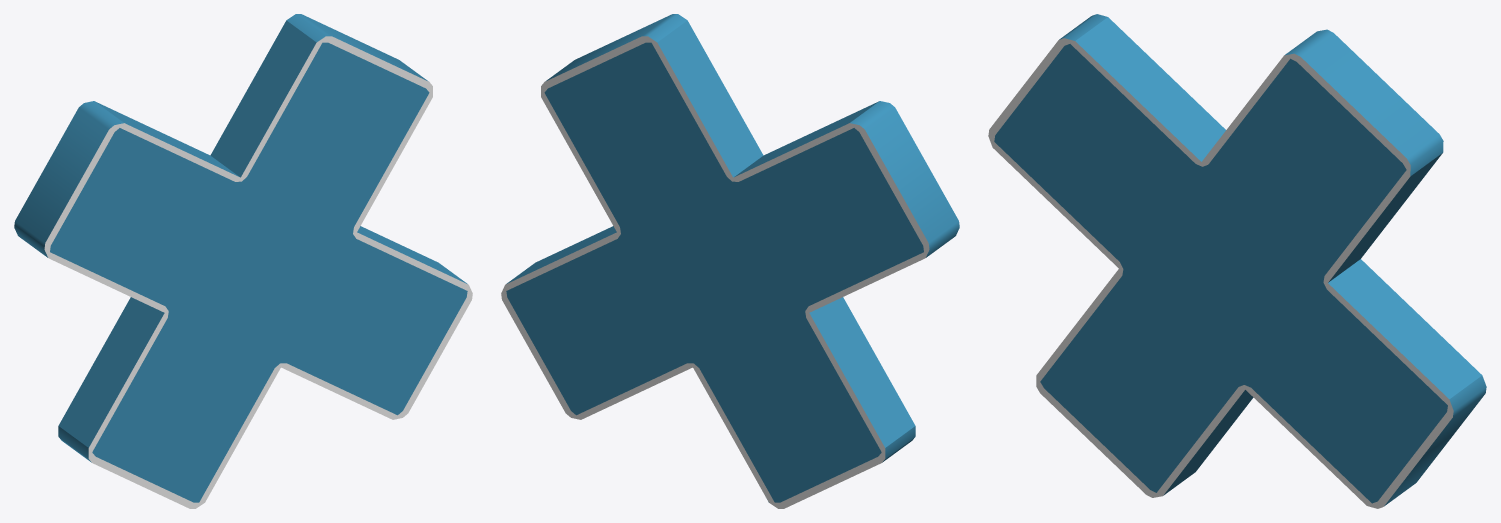
Rendered from Segu_Hairclip_Ani.FBX.
3 views of the same model, side by side, from view 1: azimuth 30°, elevation 25°; view 2: azimuth 150°, elevation 25°; view 3: azimuth 330°, elevation 25° (orthographic). The views are drawn at different scales.
Visible parts, largest first — view 1: Segu_Hairclip; view 2: Segu_Hairclip; view 3: Segu_Hairclip.
Boxes of the visible parts, x1=… form: Segu_Hairclip: x1=14, y1=14, x2=472, y2=508; Segu_Hairclip: x1=501, y1=14, x2=959, y2=508; Segu_Hairclip: x1=988, y1=14, x2=1486, y2=508.
Bounding box in the file's own units: 36.65 × 36.05 × 4.49.
